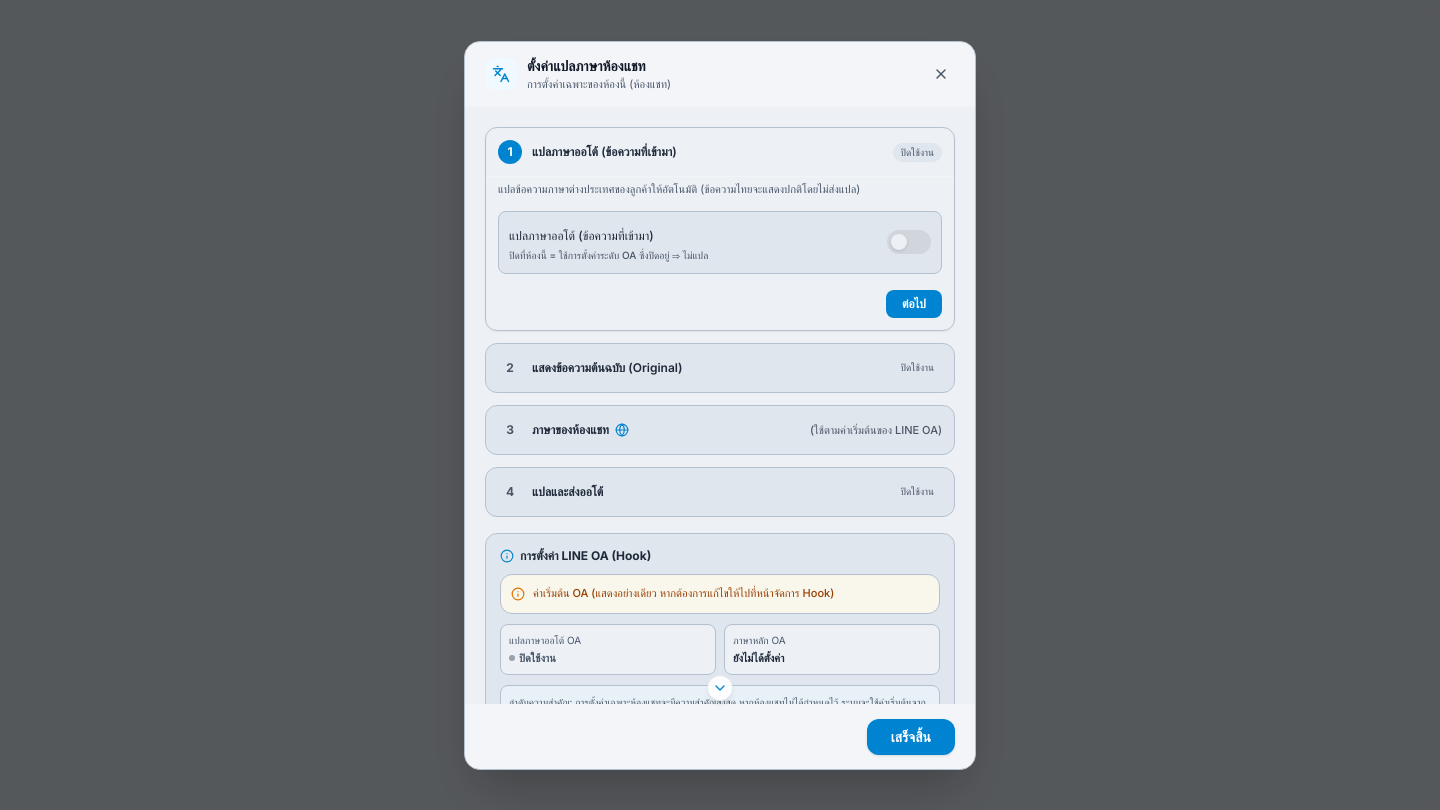
it: [LANGFIRST] switching step 4 ON › 🔴 no language anywhere ⇒ warns and saves NOTHING
What coordinates should you click on to do the following:
click the button with test id "room-wizard-step-4-btn"
I would click on:
 (568, 491)
Its box is [486, 468, 954, 516].
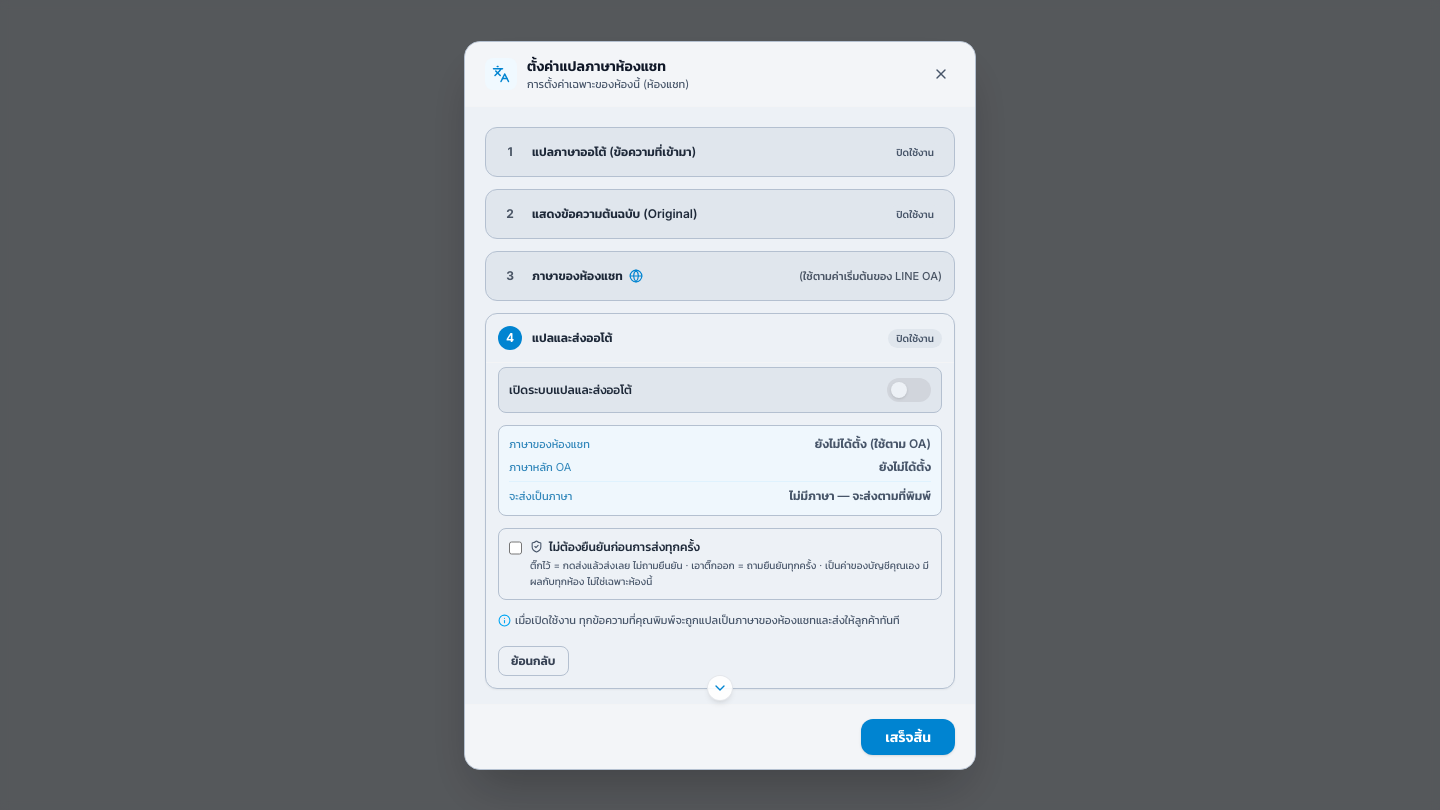
What coordinates should you click on to do the following:
click the switch with test id "room-modal-auto-send-toggle"
I would click on:
 (909, 390)
Its box is [887, 378, 931, 402].
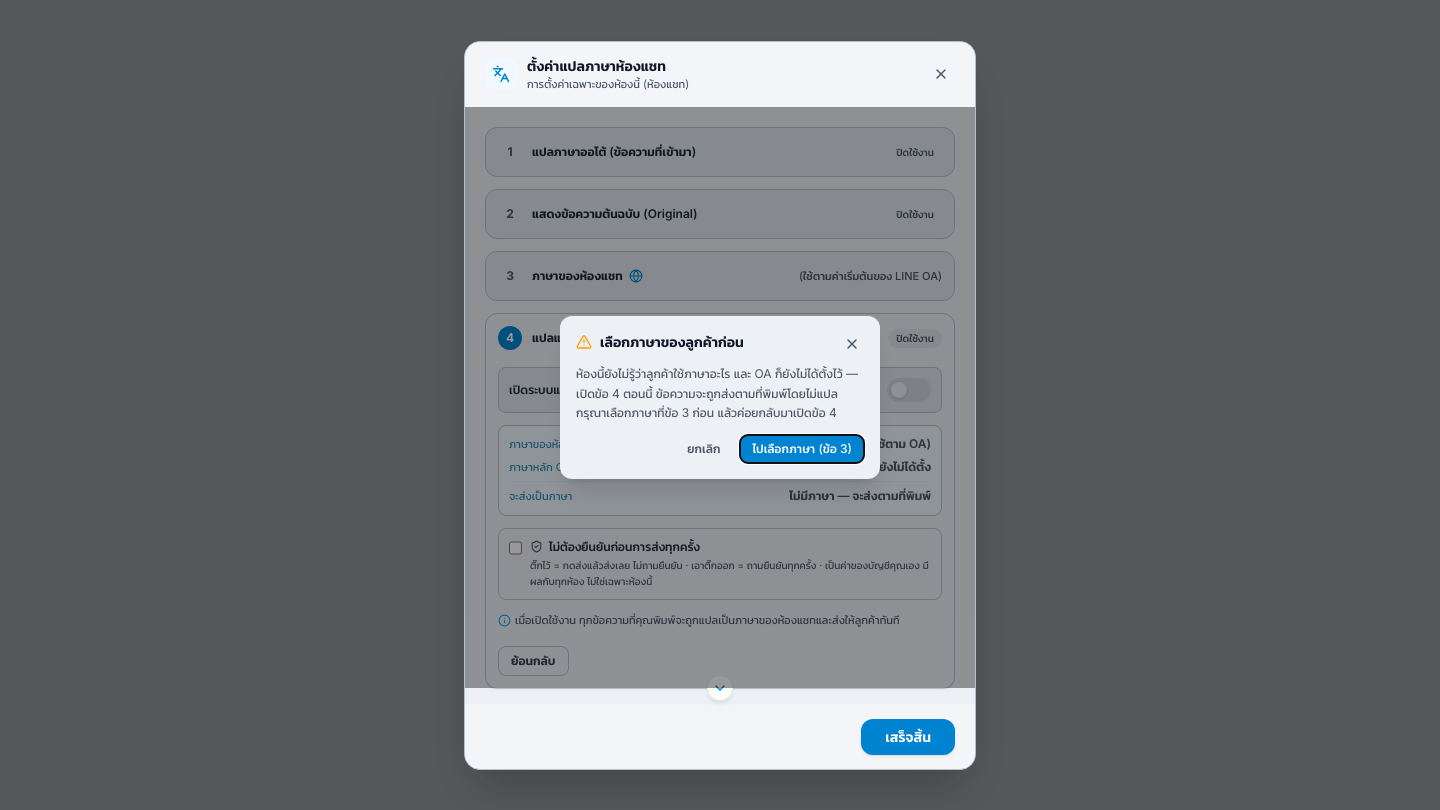
expect the dialog with test id "room-lang-required-notice" is shown: met, box [465, 107, 975, 688]
